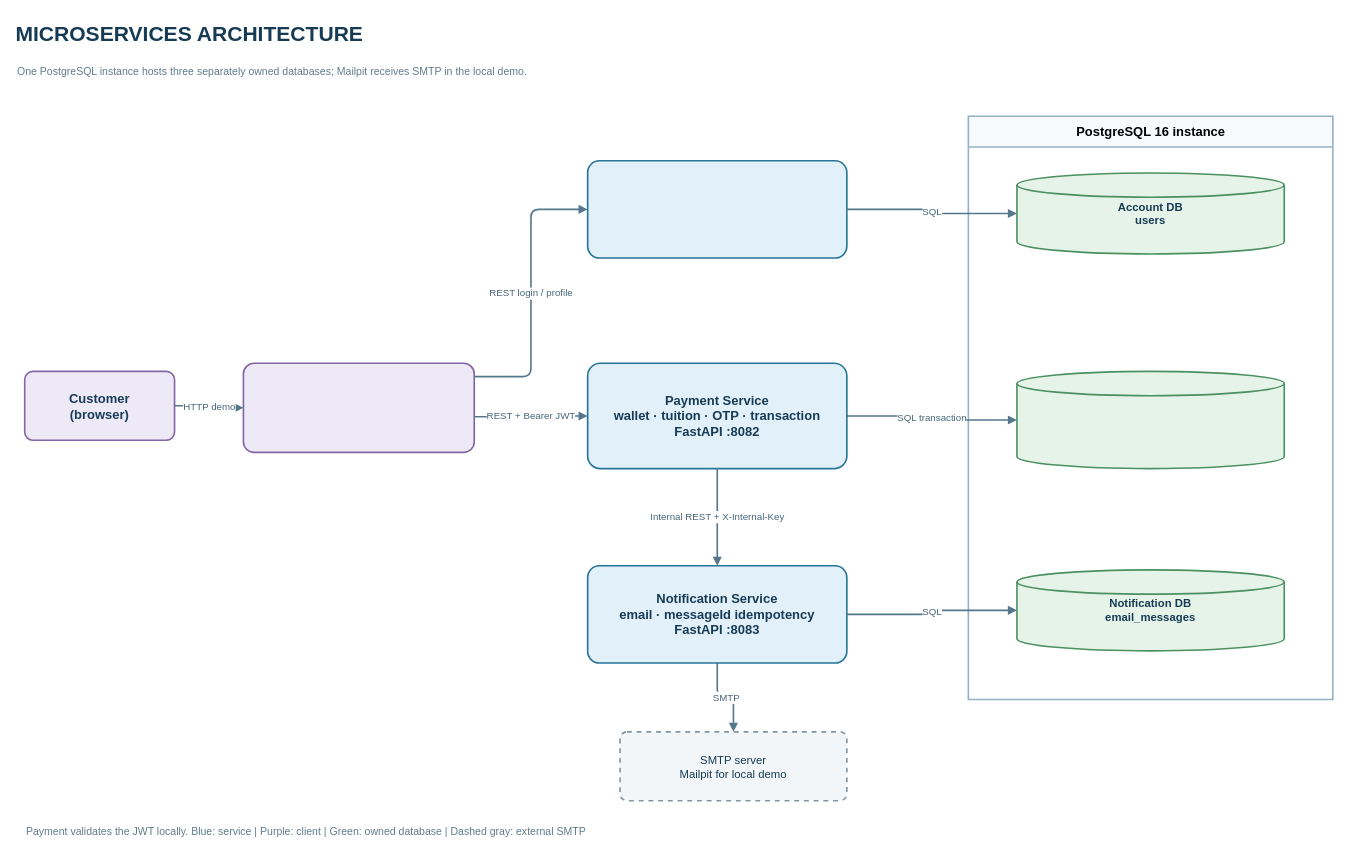
This 1369x859 diagram has some shape labels left out. The shapes that lost their labels are listed below. From the top down, each one's centre as x and y in pixels, then its label:
pixel 716 209: Account Service login · profile · JWT FastAPI :8081
pixel 358 407: Frontend React + Vite :5173
pixel 1150 419: Payment DB wallets · students · tuitions payments · otps · email_jobs
